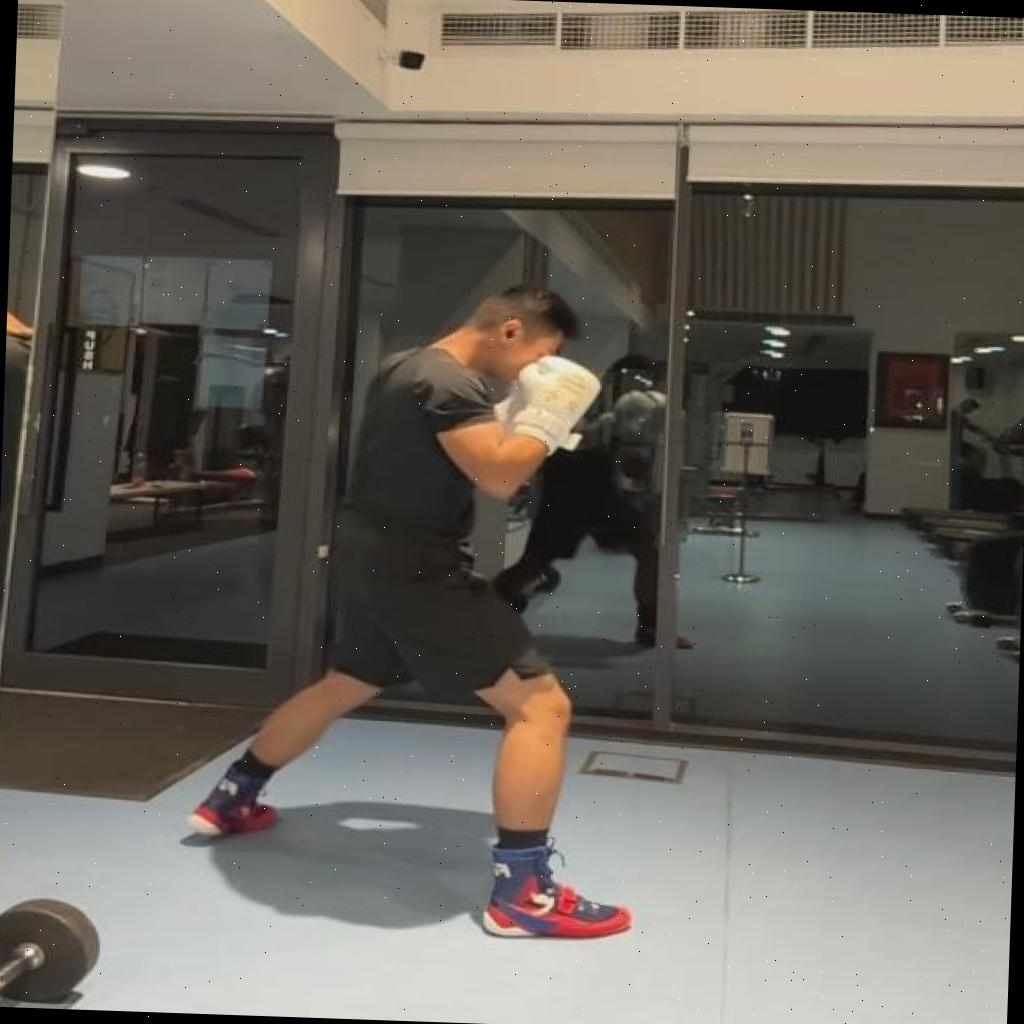no punch: (176, 260, 658, 949)
